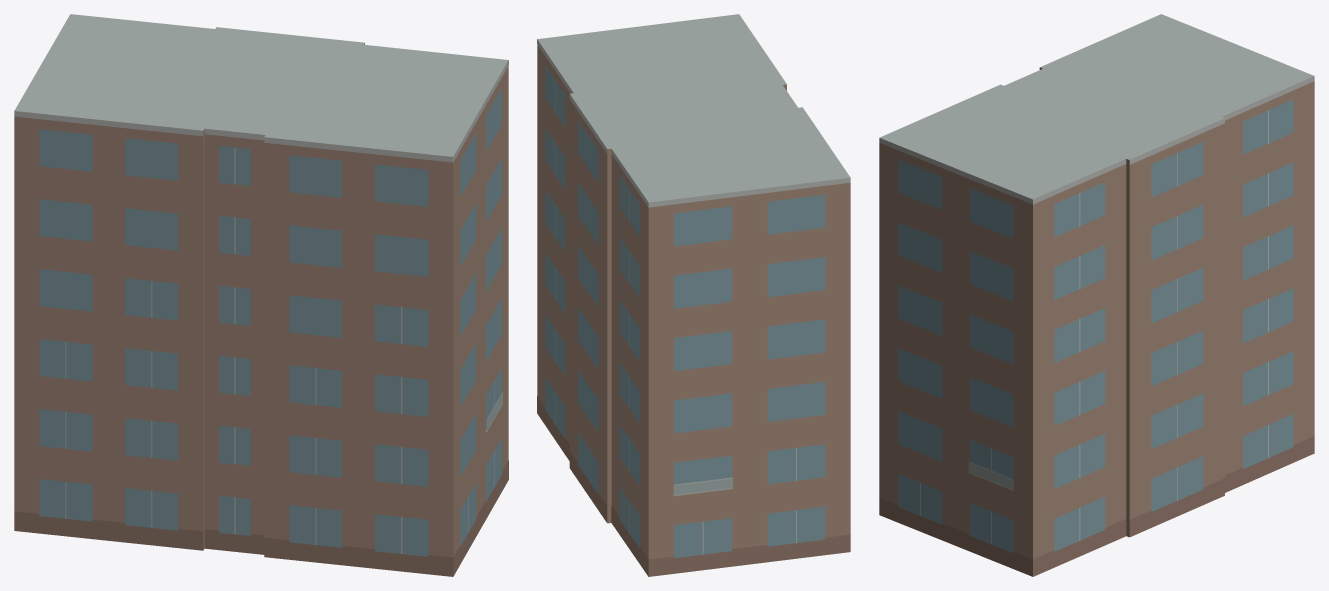
File: survey-upis-32998478.glb
The picture shows the model from 3 angles, left to right: view 1: azimuth 30°, elevation 25°; view 2: azimuth 150°, elevation 25°; view 3: azimuth 270°, elevation 25°; orthographic projection. The views are drawn at different scales.
Visible parts, largest first — view 1: survey-upis-32998478.tmp; view 2: survey-upis-32998478.tmp; view 3: survey-upis-32998478.tmp.
Boxes of the visible parts, <box> form: survey-upis-32998478.tmp: <box>14,14,508,576</box>; survey-upis-32998478.tmp: <box>537,14,850,576</box>; survey-upis-32998478.tmp: <box>879,14,1314,576</box>.
Size of the model in its own units: 19.3 by 18.3 by 19.14.
